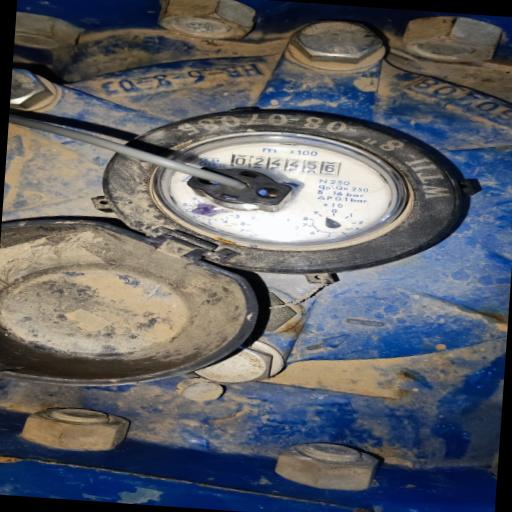0: (232, 156, 248, 166)
2: (251, 156, 267, 166)
4: (286, 160, 304, 170), (268, 157, 284, 168)
5: (305, 162, 321, 172)
6: (322, 164, 338, 174)
medida: (229, 154, 341, 175)
